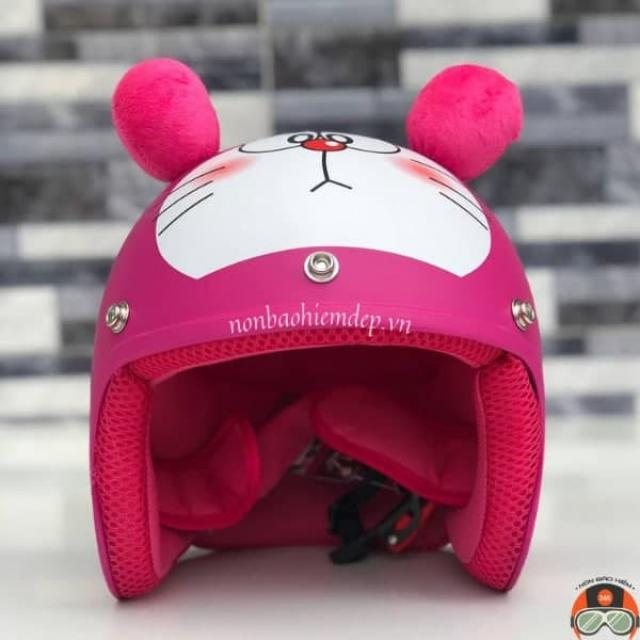Helmet: (84, 56, 550, 602)
